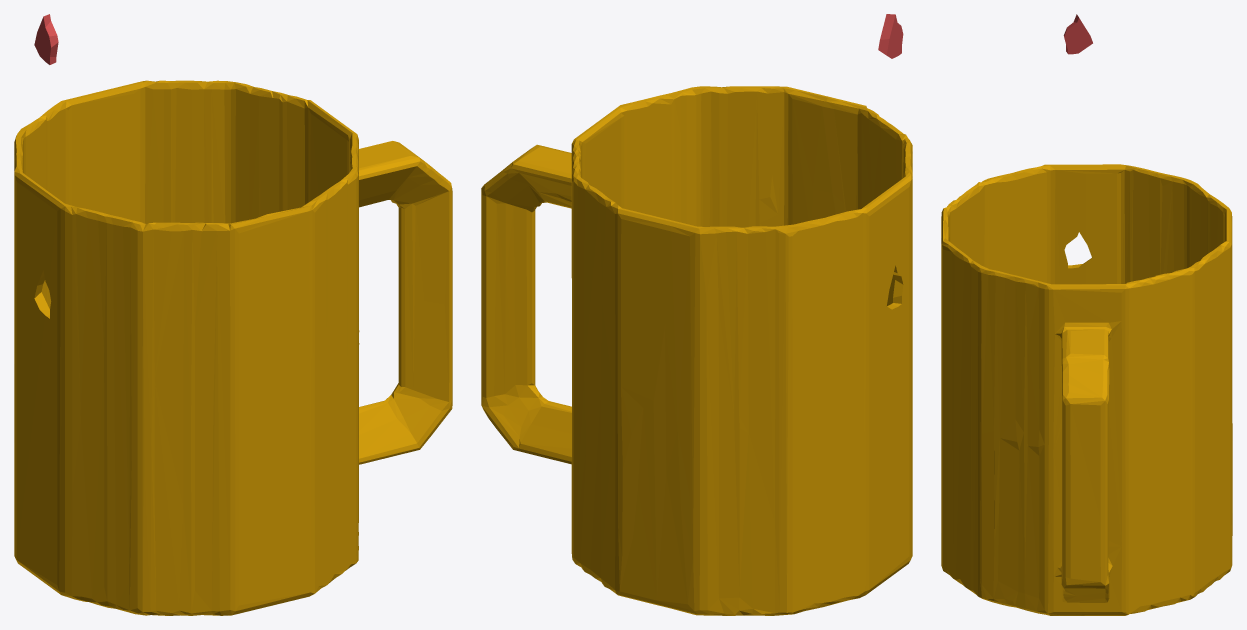
The model's file is fractured_72_2pcs_transformed.glb.
3 views of the same model, side by side, from view 1: azimuth 30°, elevation 25°; view 2: azimuth 150°, elevation 25°; view 3: azimuth 270°, elevation 25° (orthographic). The views are drawn at different scales.
Parts seen in each view (by area): view 1: piece_0.obj, piece_1.obj; view 2: piece_0.obj, piece_1.obj; view 3: piece_0.obj, piece_1.obj.
Part boxes in pixels (box(x1,y1,x2,y2)): piece_0.obj: box(14, 80, 452, 615); piece_1.obj: box(34, 14, 58, 64); piece_0.obj: box(481, 86, 912, 615); piece_1.obj: box(878, 14, 903, 58); piece_0.obj: box(941, 164, 1232, 615); piece_1.obj: box(1063, 14, 1092, 54).
Size of the model in its own units: 1 by 1.35 by 0.74.
